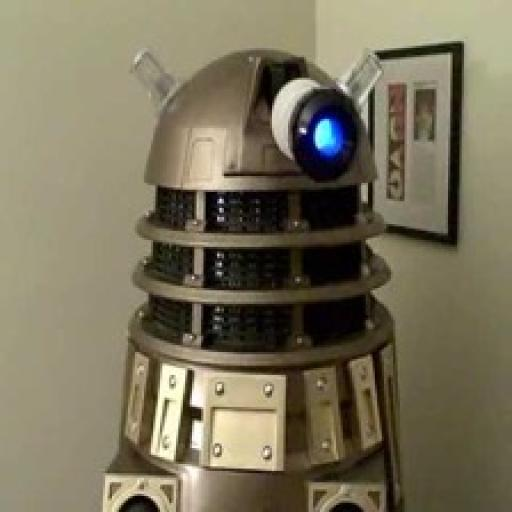dalek: (91, 46, 397, 512)
